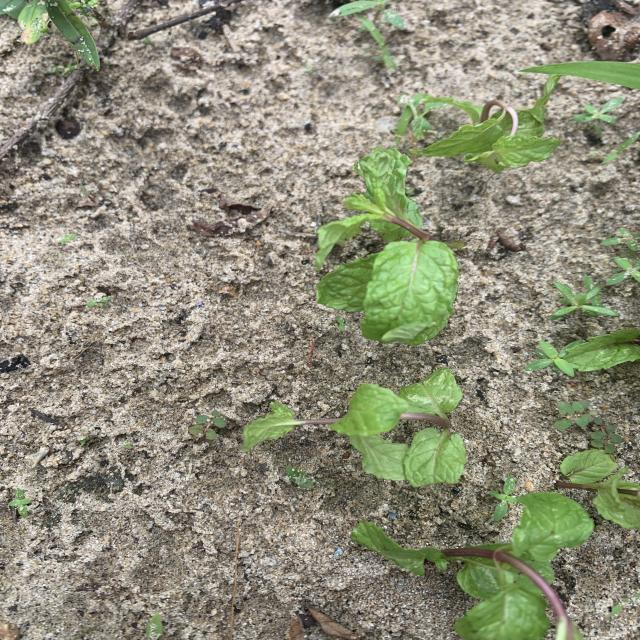crop: (351, 493, 594, 640), (315, 148, 459, 345), (241, 368, 466, 487), (421, 76, 561, 173), (556, 449, 640, 530), (395, 93, 443, 148), (404, 149, 421, 157)
weed: (519, 61, 640, 89), (549, 276, 619, 320), (329, 0, 406, 29), (358, 16, 398, 70), (525, 340, 583, 377), (573, 97, 623, 124), (489, 476, 518, 522), (601, 132, 640, 165), (555, 400, 596, 430), (590, 417, 623, 454), (188, 410, 227, 440), (606, 257, 640, 285), (601, 228, 640, 252), (8, 486, 32, 517), (285, 466, 315, 490), (86, 293, 111, 309), (55, 233, 79, 244), (336, 317, 348, 332), (80, 185, 91, 196)
